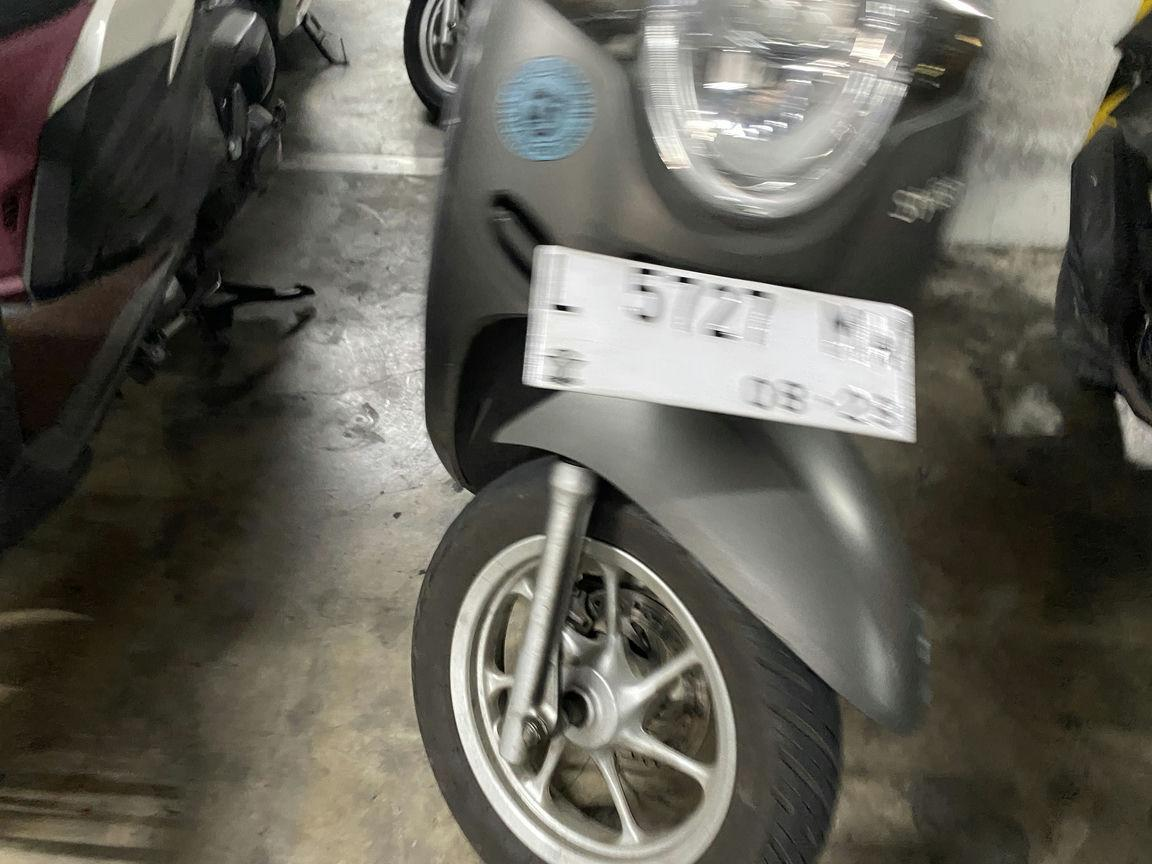plat: (522, 245, 916, 441)
